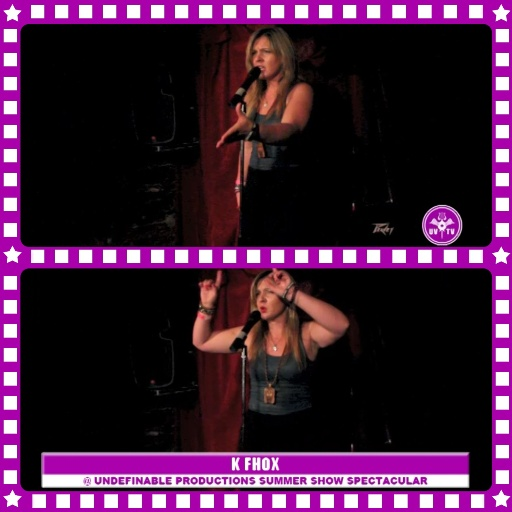hand: (216, 102, 256, 150), (263, 267, 297, 300), (196, 270, 224, 308), (234, 183, 243, 209)
